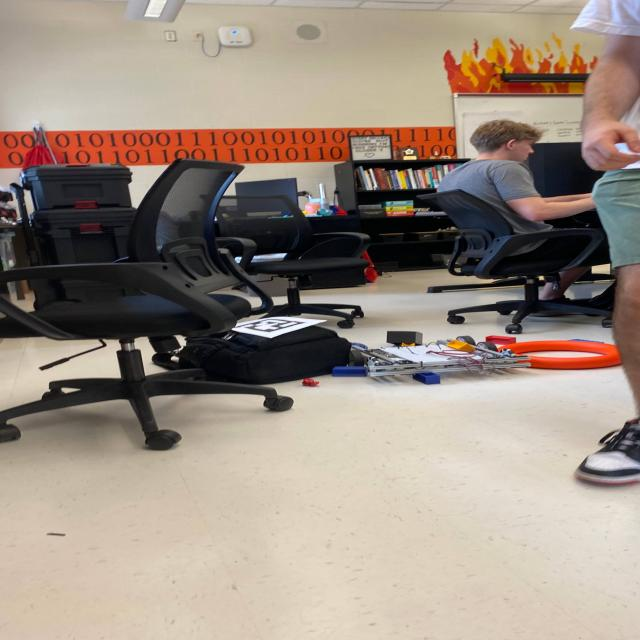blue-specimen: (332, 366, 367, 377), (413, 373, 440, 385)
red-specimen: (486, 336, 516, 345)
yellow-specimen: (446, 339, 475, 352)
